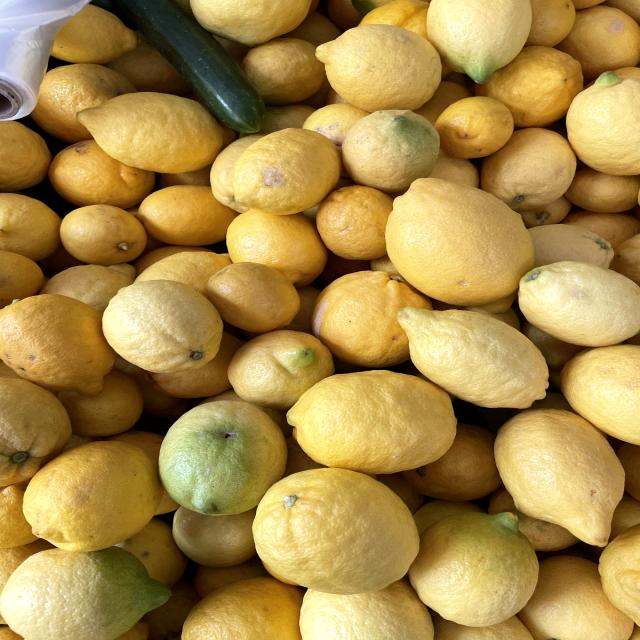lemon: (232, 451, 431, 599), (376, 165, 549, 311), (488, 392, 632, 548), (276, 359, 468, 474), (0, 542, 191, 640), (391, 298, 561, 406), (11, 433, 165, 552), (80, 264, 228, 375), (68, 86, 229, 172), (302, 23, 458, 111), (221, 110, 347, 215), (51, 193, 152, 267)
